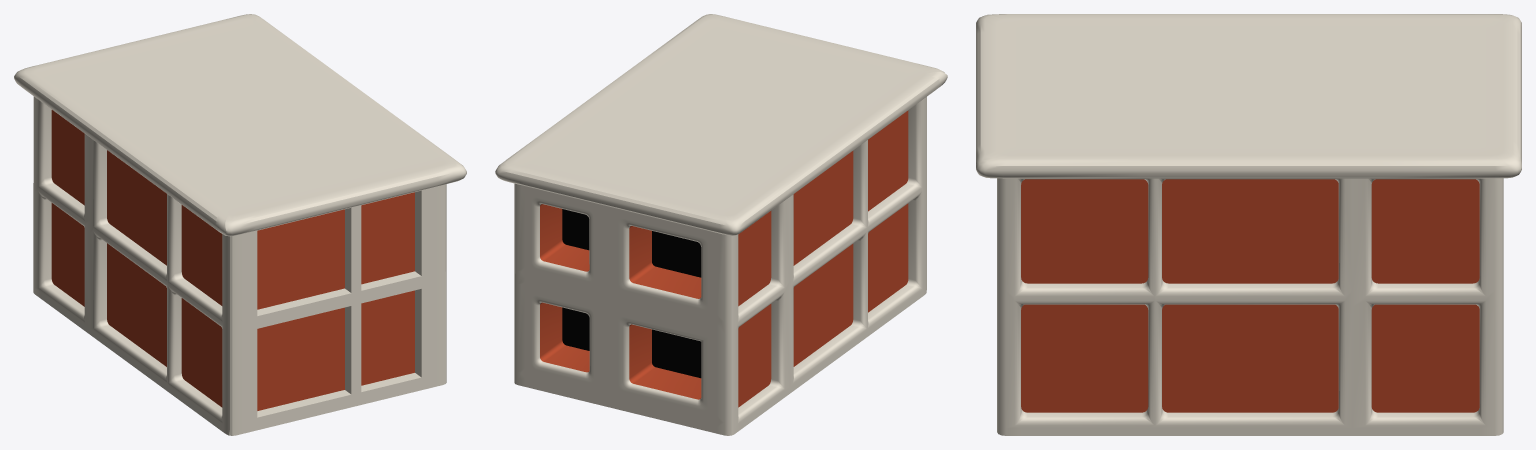
Rendered from Insaat_Alani.fbx.
3 views of the same model, side by side, from view 1: azimuth 30°, elevation 25°; view 2: azimuth 150°, elevation 25°; view 3: azimuth 270°, elevation 25° (orthographic). The views are drawn at different scales.
Parts seen in each view (by area): view 1: Cube.001; view 2: Cube.001; view 3: Cube.001.
Part boxes in pixels (box(x1,y1,x2,y2)): Cube.001: box(14, 14, 466, 435); Cube.001: box(495, 14, 947, 435); Cube.001: box(976, 14, 1521, 435).
Size of the model in its own units: 62.14 by 53.63 by 94.52.
